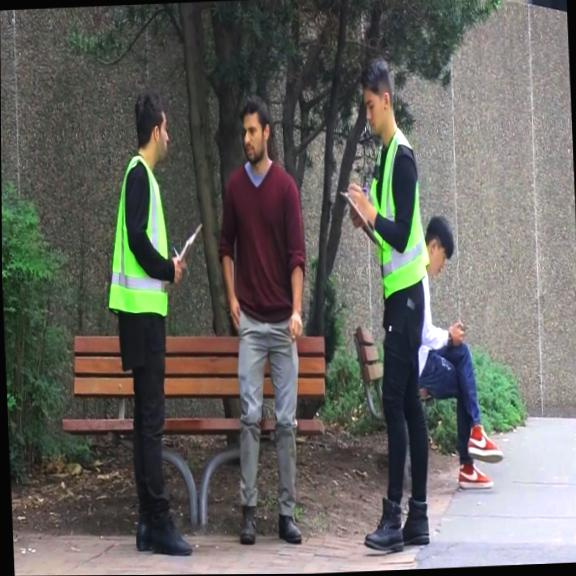safety_vest: (101, 155, 170, 321), (368, 125, 431, 302)
